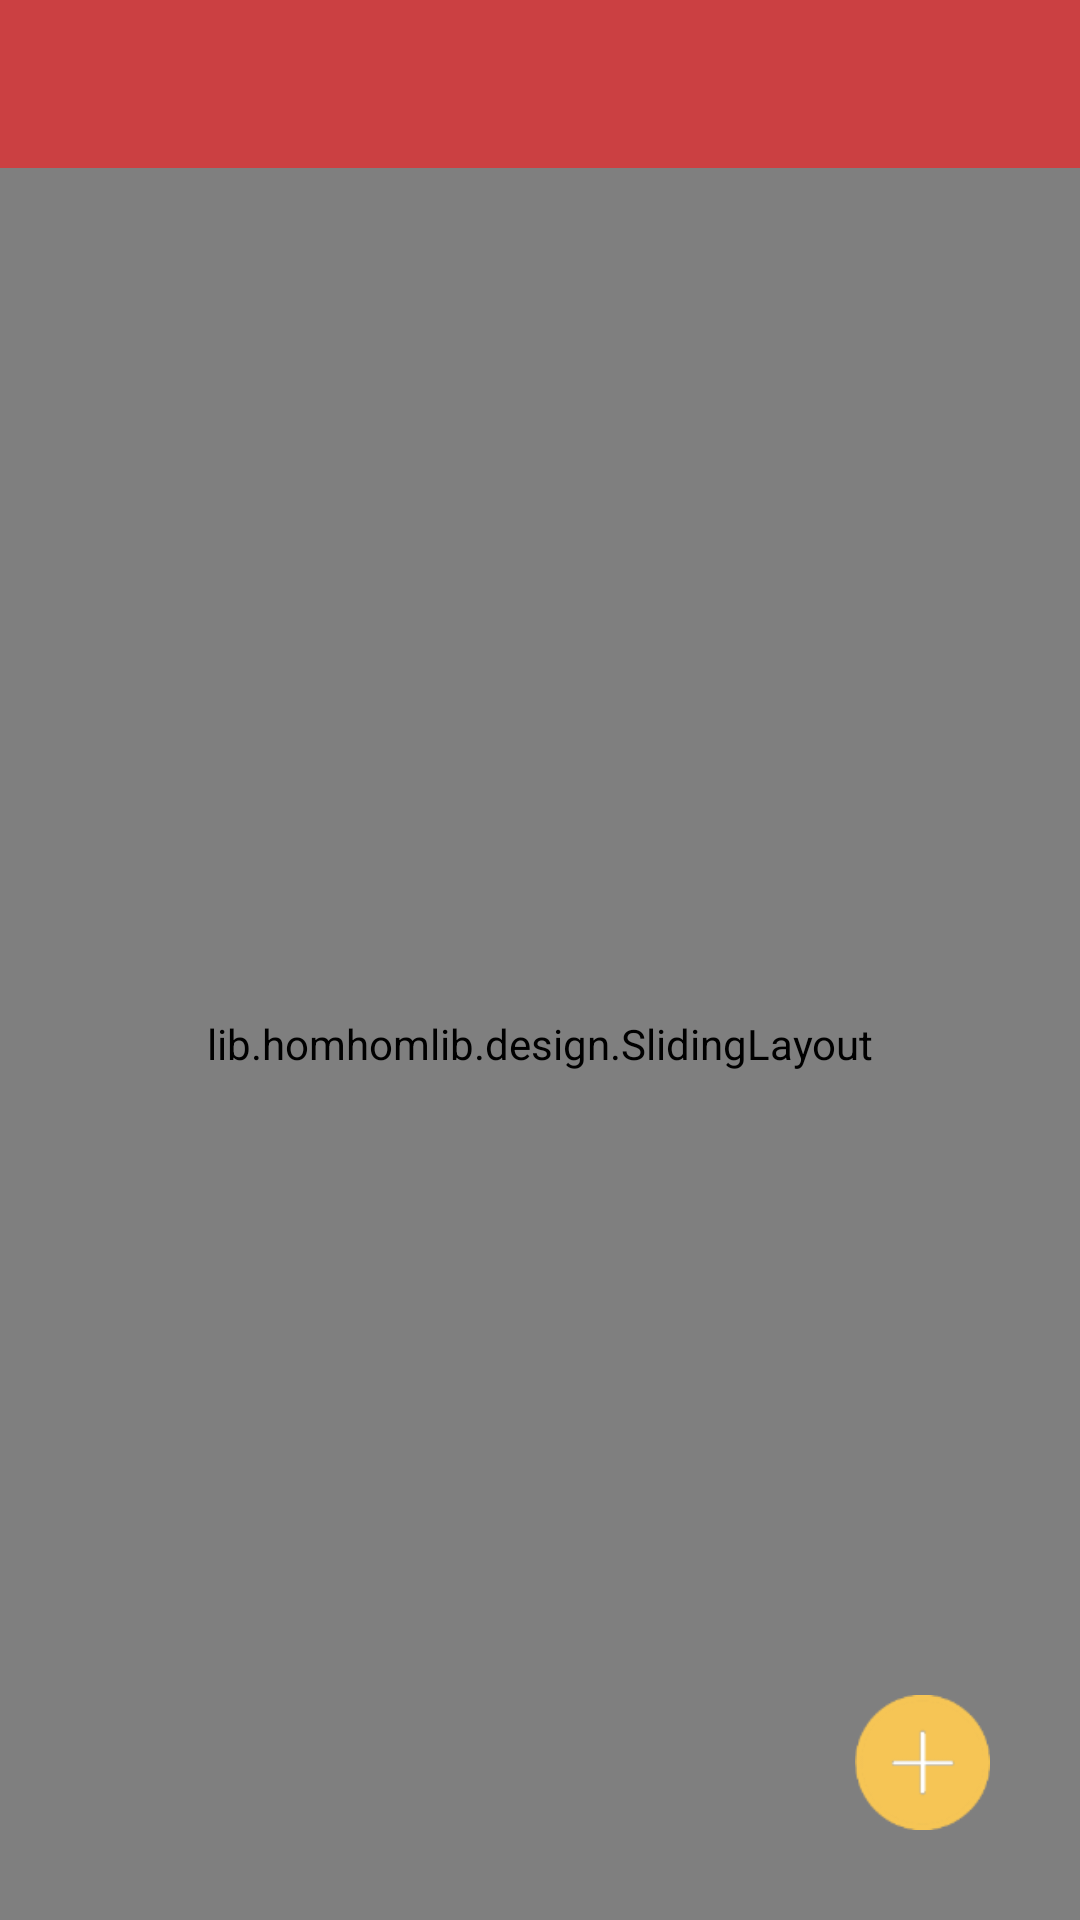

Where icons sit on this 1080 × 1920 app screen, as (x1, y1, x2, y2):
add: (855, 1695, 990, 1830)
